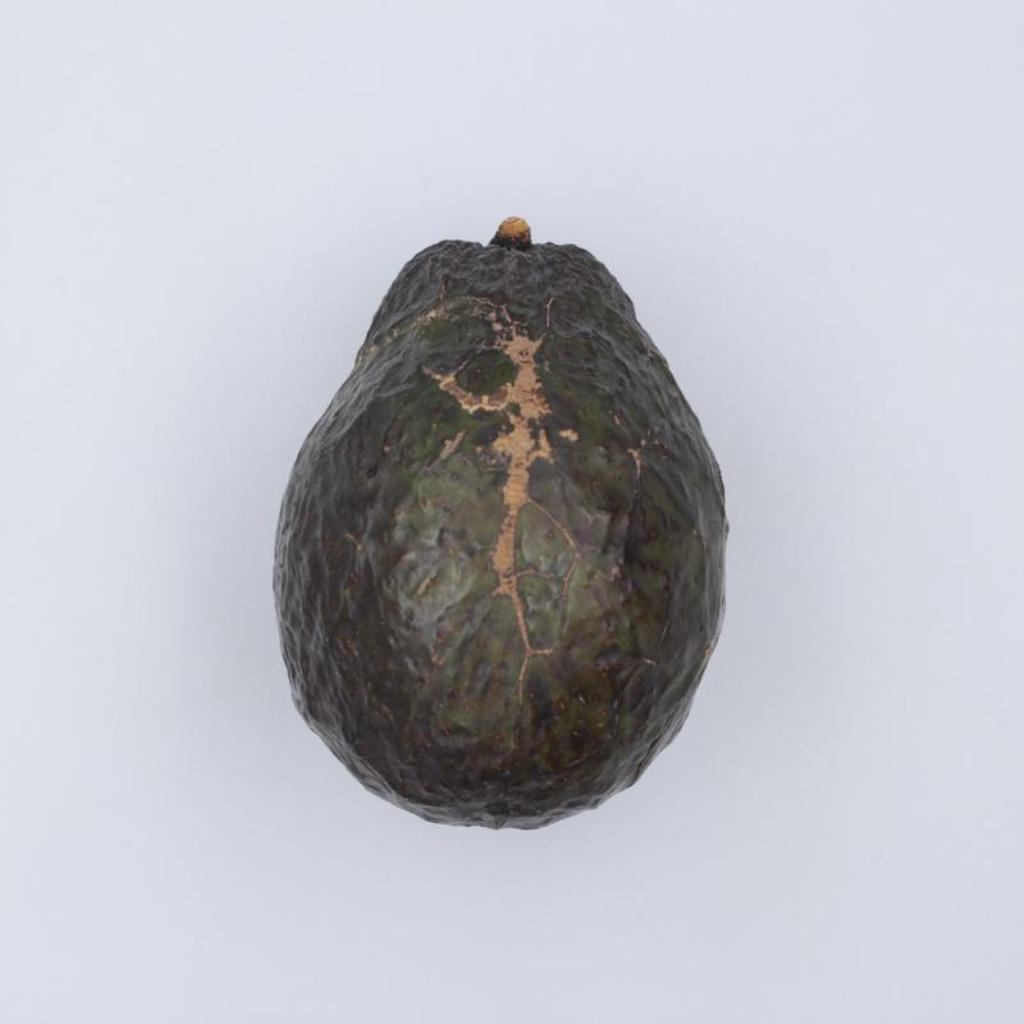rona: (274, 223, 727, 827)
